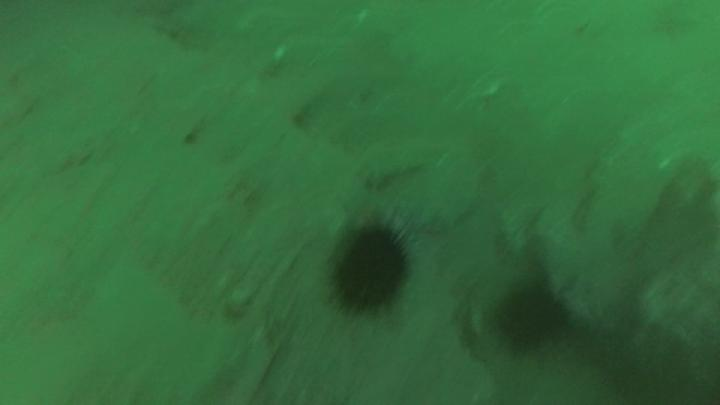echinus: (327, 220, 411, 321), (493, 272, 568, 355)
